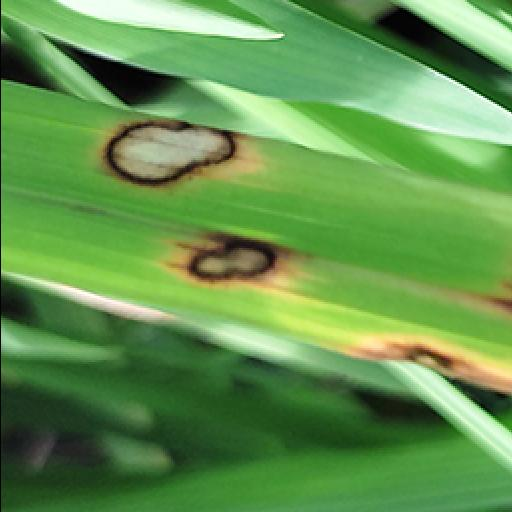Brown Spot: (94, 118, 240, 194), (342, 336, 512, 396), (174, 228, 290, 300), (468, 268, 512, 316)
